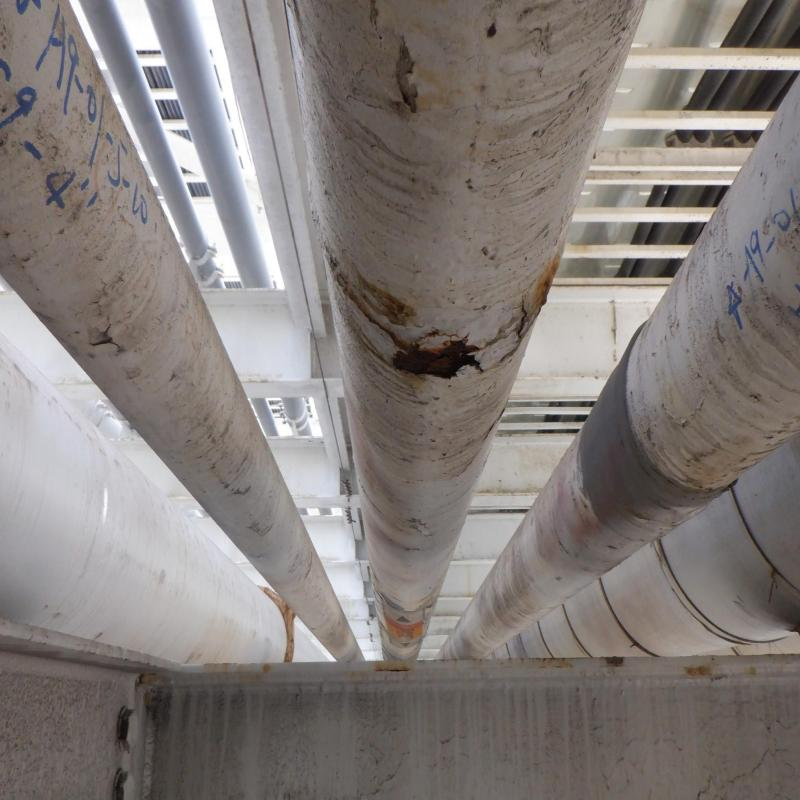corrosion: (394, 330, 488, 386)
